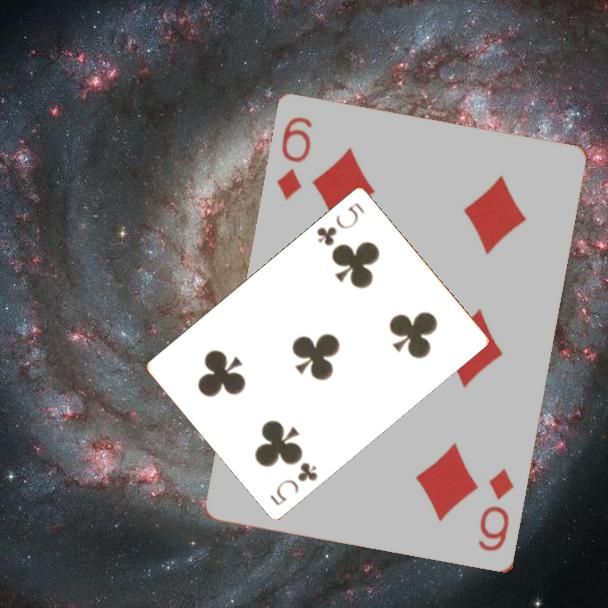c05: (313, 198, 368, 249), (266, 458, 321, 509)
d06: (273, 114, 316, 204), (475, 465, 517, 555)
